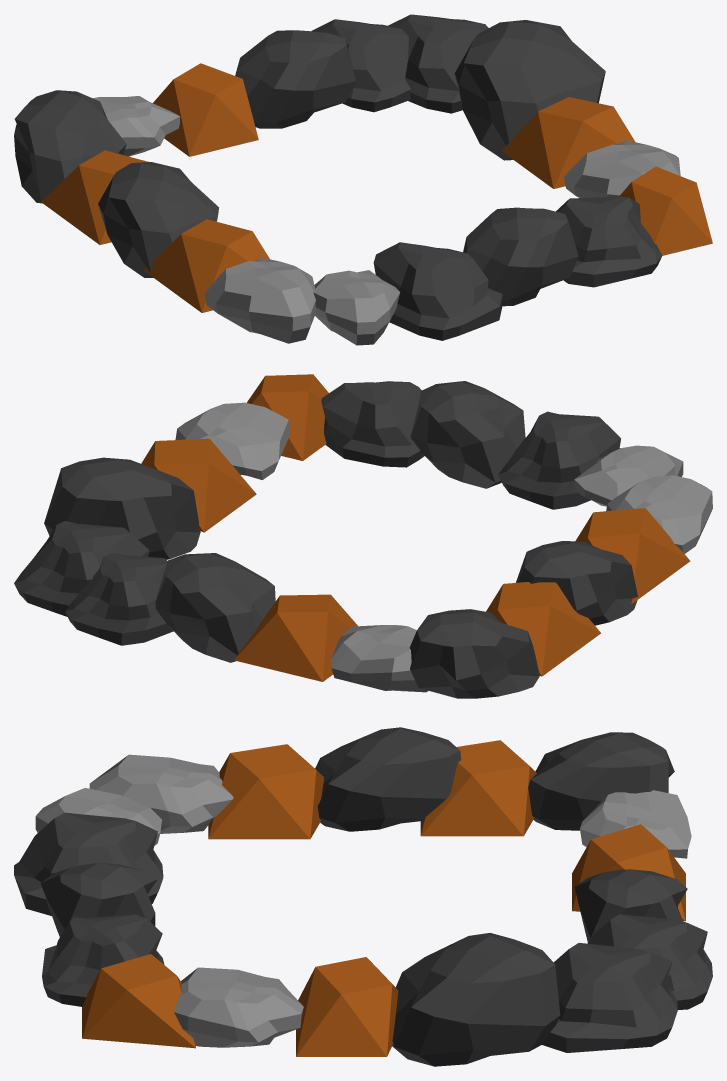
File: wall.fbx
3 renders of one model, top to bottom at view 1: azimuth 30°, elevation 25°; view 2: azimuth 150°, elevation 25°; view 3: azimuth 270°, elevation 25°, orthographic. The views are drawn at different scales.
Visible parts, largest first — view 1: Rock_6, Rock_6_1, Rock_4__1_, Rock_6__1_, Rock_6_3, Rock_6_2, Rock_2__1_, Rock_4_2, Stone_1, Stone_1_1, Stone_1__1_, Rock_4 (+6 smaller); view 2: Rock_6, Rock_6_2, Rock_6_1, Rock_6_3, Rock_4__1_, Rock_4_2, Rock_4_1, Stone_1_1, Rock_6__1_, Rock_4, Stone_1_2, Rock_2 (+6 smaller); view 3: Rock_6, Rock_4, Rock_6__1_, Rock_6_2, Stone_1__1_, Stone_1, Rock_2, Stone_1_2, Rock_4__1_, Stone_1_3, Rock_2__1_, Rock_4_2 (+6 smaller).
Part boxes in pixels (x1,y1,x2,y2): Rock_6: [454, 20, 605, 160]; Rock_6_1: [235, 30, 355, 128]; Rock_4__1_: [373, 242, 502, 340]; Rock_6__1_: [98, 162, 218, 277]; Rock_6_3: [463, 207, 578, 306]; Rock_6_2: [14, 90, 126, 203]; Rock_2__1_: [205, 257, 316, 343]; Rock_4_2: [556, 196, 662, 287]; Stone_1: [502, 97, 635, 188]; Stone_1_1: [153, 63, 258, 156]; Stone_1__1_: [144, 219, 269, 312]; Rock_4: [388, 14, 488, 113]; Rock_6: [44, 457, 200, 559]; Rock_6_2: [409, 609, 539, 698]; Rock_6_1: [155, 553, 275, 662]; Rock_6_3: [410, 381, 525, 488]; Rock_4__1_: [498, 411, 620, 509]; Rock_4_2: [321, 381, 424, 467]; Rock_4_1: [65, 552, 173, 645]; Stone_1_1: [234, 594, 357, 681]; Rock_6__1_: [516, 541, 637, 625]; Rock_4: [14, 521, 149, 616]; Stone_1_2: [486, 582, 600, 676]; Rock_2: [175, 402, 289, 479]; Rock_6: [392, 933, 560, 1066]; Rock_4: [542, 943, 677, 1052]; Rock_6__1_: [315, 727, 461, 831]; Rock_6_2: [528, 732, 674, 830]; Stone_1__1_: [208, 744, 324, 839]; Stone_1: [296, 957, 398, 1056]; Rock_2: [174, 967, 303, 1047]; Stone_1_2: [420, 740, 536, 836]; Rock_4__1_: [14, 812, 163, 915]; Stone_1_3: [82, 954, 195, 1048]; Rock_2__1_: [89, 754, 233, 833]; Rock_4_2: [42, 914, 164, 1006].
Size of the model in its own units: 10216 by 1765 by 10813.
